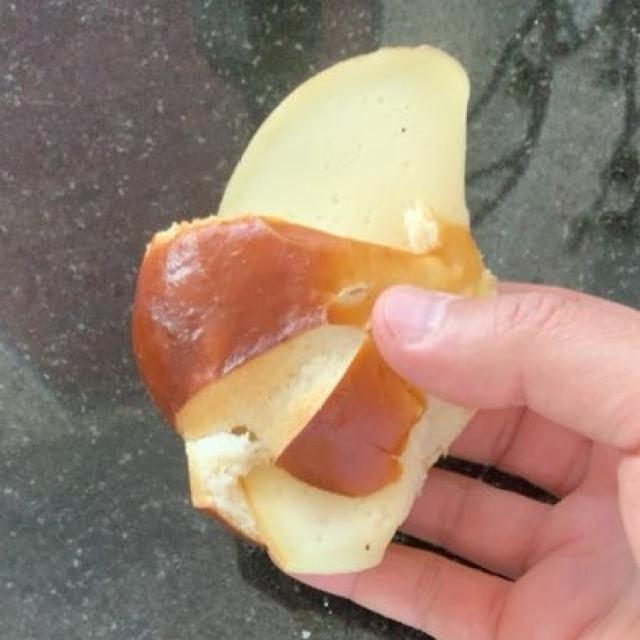cheese: (222, 70, 460, 589)
